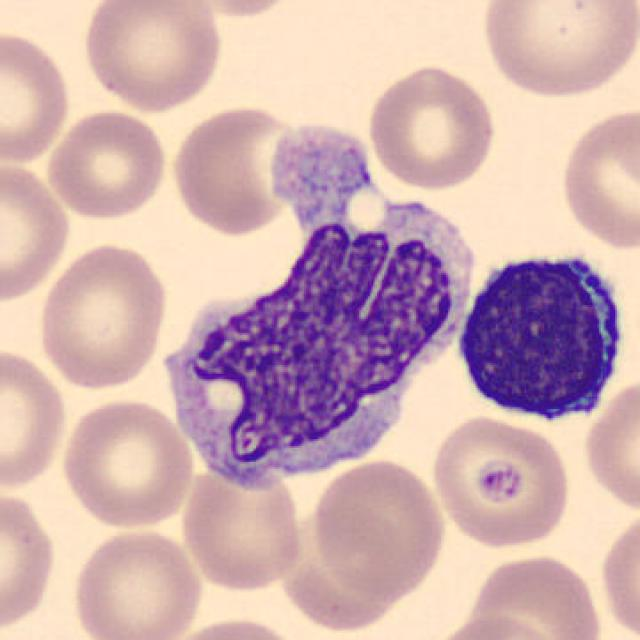Lymphocyte: (450, 242, 633, 428)
Monocyte: (161, 114, 484, 496)
Platelets: (472, 459, 535, 512)
RBC: (34, 238, 170, 393), (308, 457, 448, 601), (427, 413, 574, 550), (167, 101, 311, 238), (57, 395, 197, 531), (362, 60, 500, 192), (178, 460, 308, 594), (78, 0, 226, 115), (282, 507, 416, 632), (476, 0, 638, 102), (65, 523, 206, 640), (42, 108, 170, 222), (464, 550, 606, 640), (555, 104, 638, 252), (0, 157, 73, 305), (0, 342, 69, 493), (0, 24, 73, 166), (0, 486, 60, 636), (579, 374, 640, 515), (595, 504, 640, 640), (162, 613, 306, 640), (427, 612, 560, 640), (178, 0, 306, 19)
